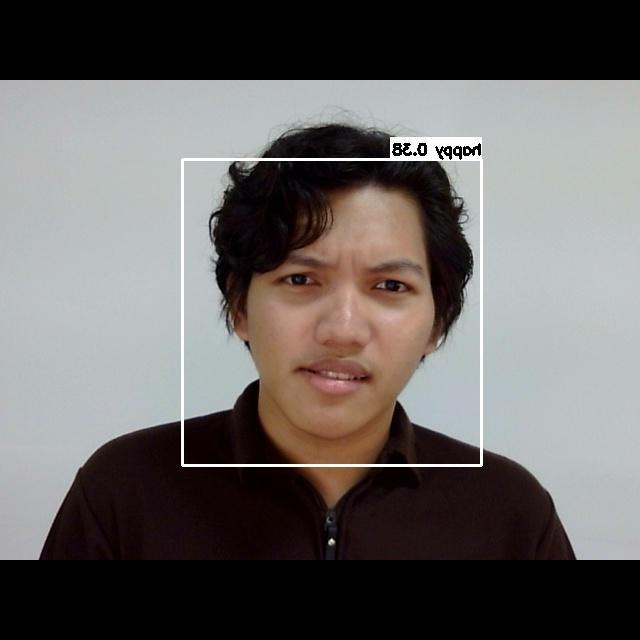Angry: (246, 224, 449, 405)
